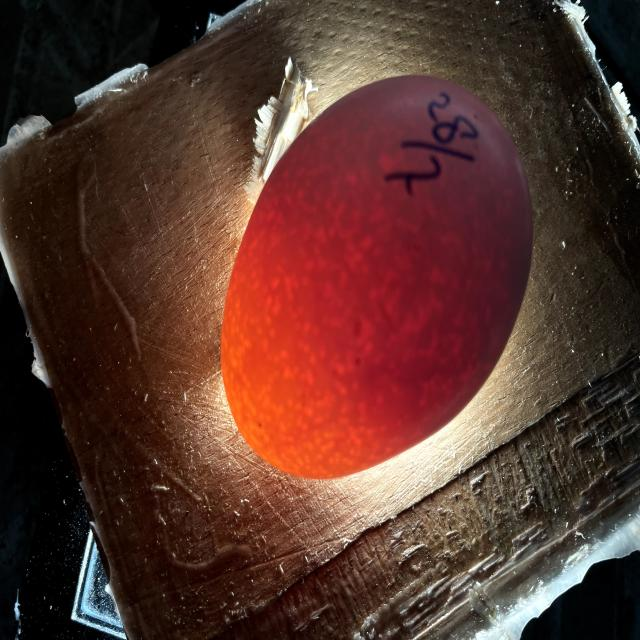fertile: (221, 77, 532, 478)
